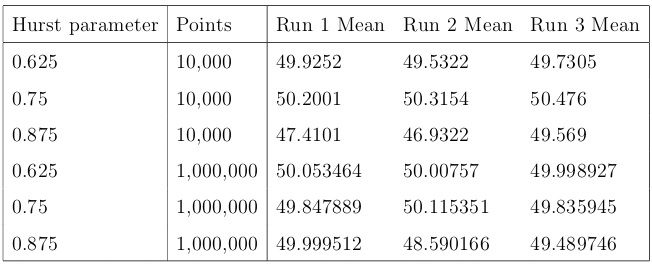column: (1, 2, 168, 264), (516, 1, 652, 265), (263, 1, 395, 263), (394, 1, 518, 265), (169, 1, 266, 264)
row: (1, 78, 650, 120), (1, 1, 647, 41), (1, 119, 652, 158), (1, 226, 652, 265), (1, 39, 650, 78), (1, 192, 652, 227), (1, 158, 652, 191)
